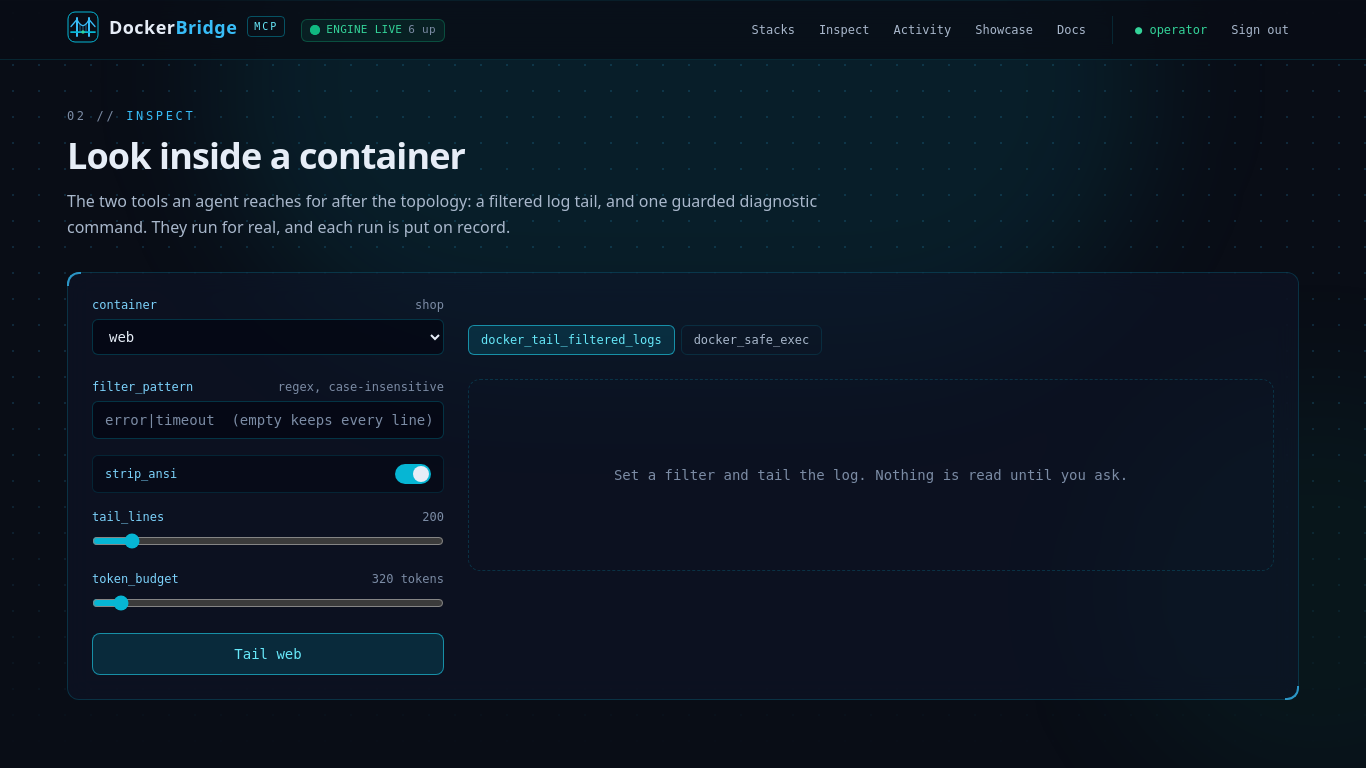
Test: inspecting a container › reads nothing until asked, then tails the chosen container through the filter
This screenshot has width=1366, height=768.
(page scrolled)
Expected: the dropdown labelled "container shop" is shown, [92,319,444,355]
Expected: the text "Nothing is read until you ask" is shown, [614,467,1128,483]
In the field labelled "filter_pattern regex, case-insensitive": (268, 420) [92,401,444,439], type "error|502"
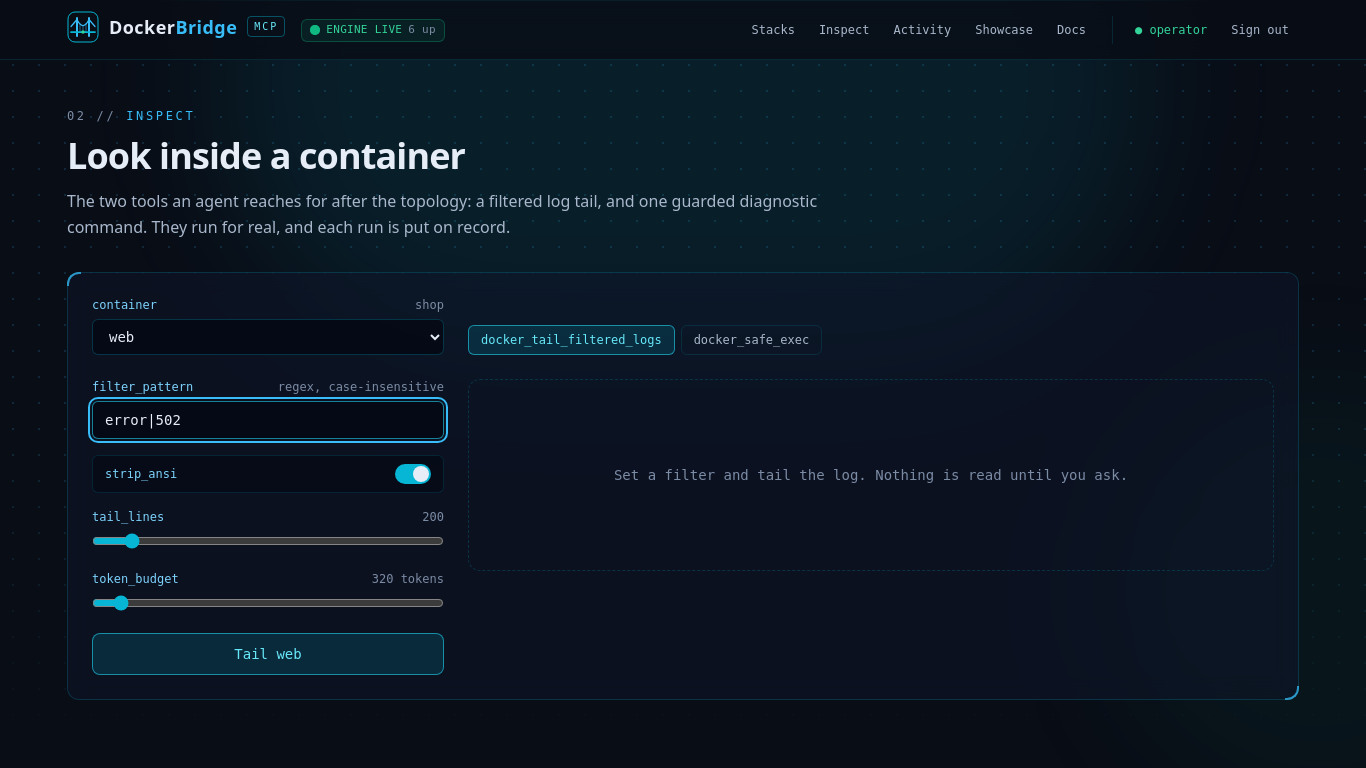
Click the button "Tail web": click(268, 654) [92,633,444,675]
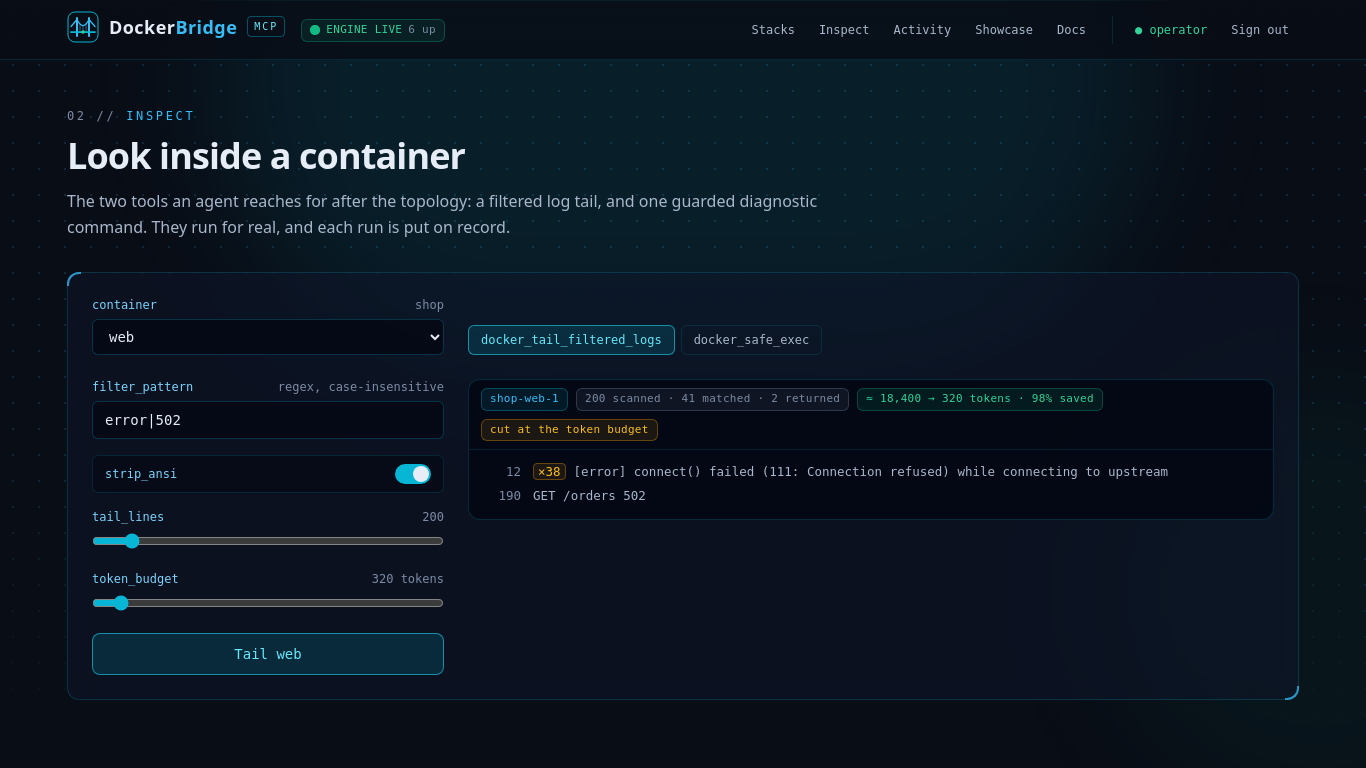
Now the text "200 scanned · 41 matched · 2 returned" is shown, box [576,388,849,410]
Now the text "≈ 18,400 → 320 tokens · 98% saved" is shown, box [857,388,1103,410]
Now the text "cut at the token budget" is shown, box [481,418,658,441]
